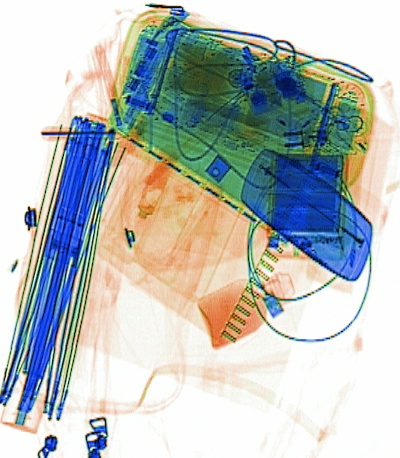powerbank: (266, 149, 348, 241)
